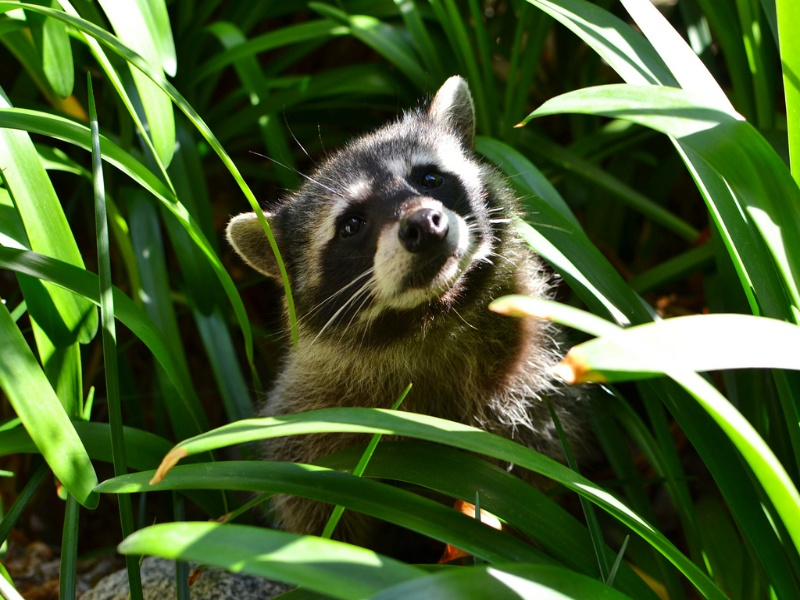raccoon: (221, 71, 636, 587)
